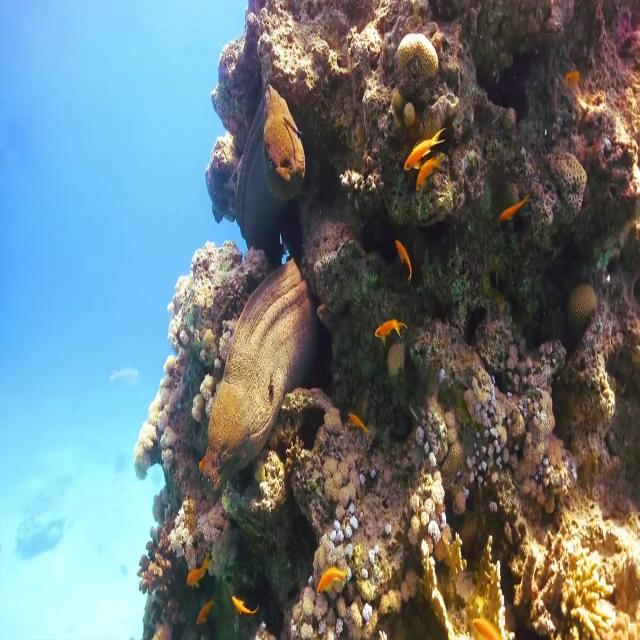fish: (202, 262, 332, 472)
